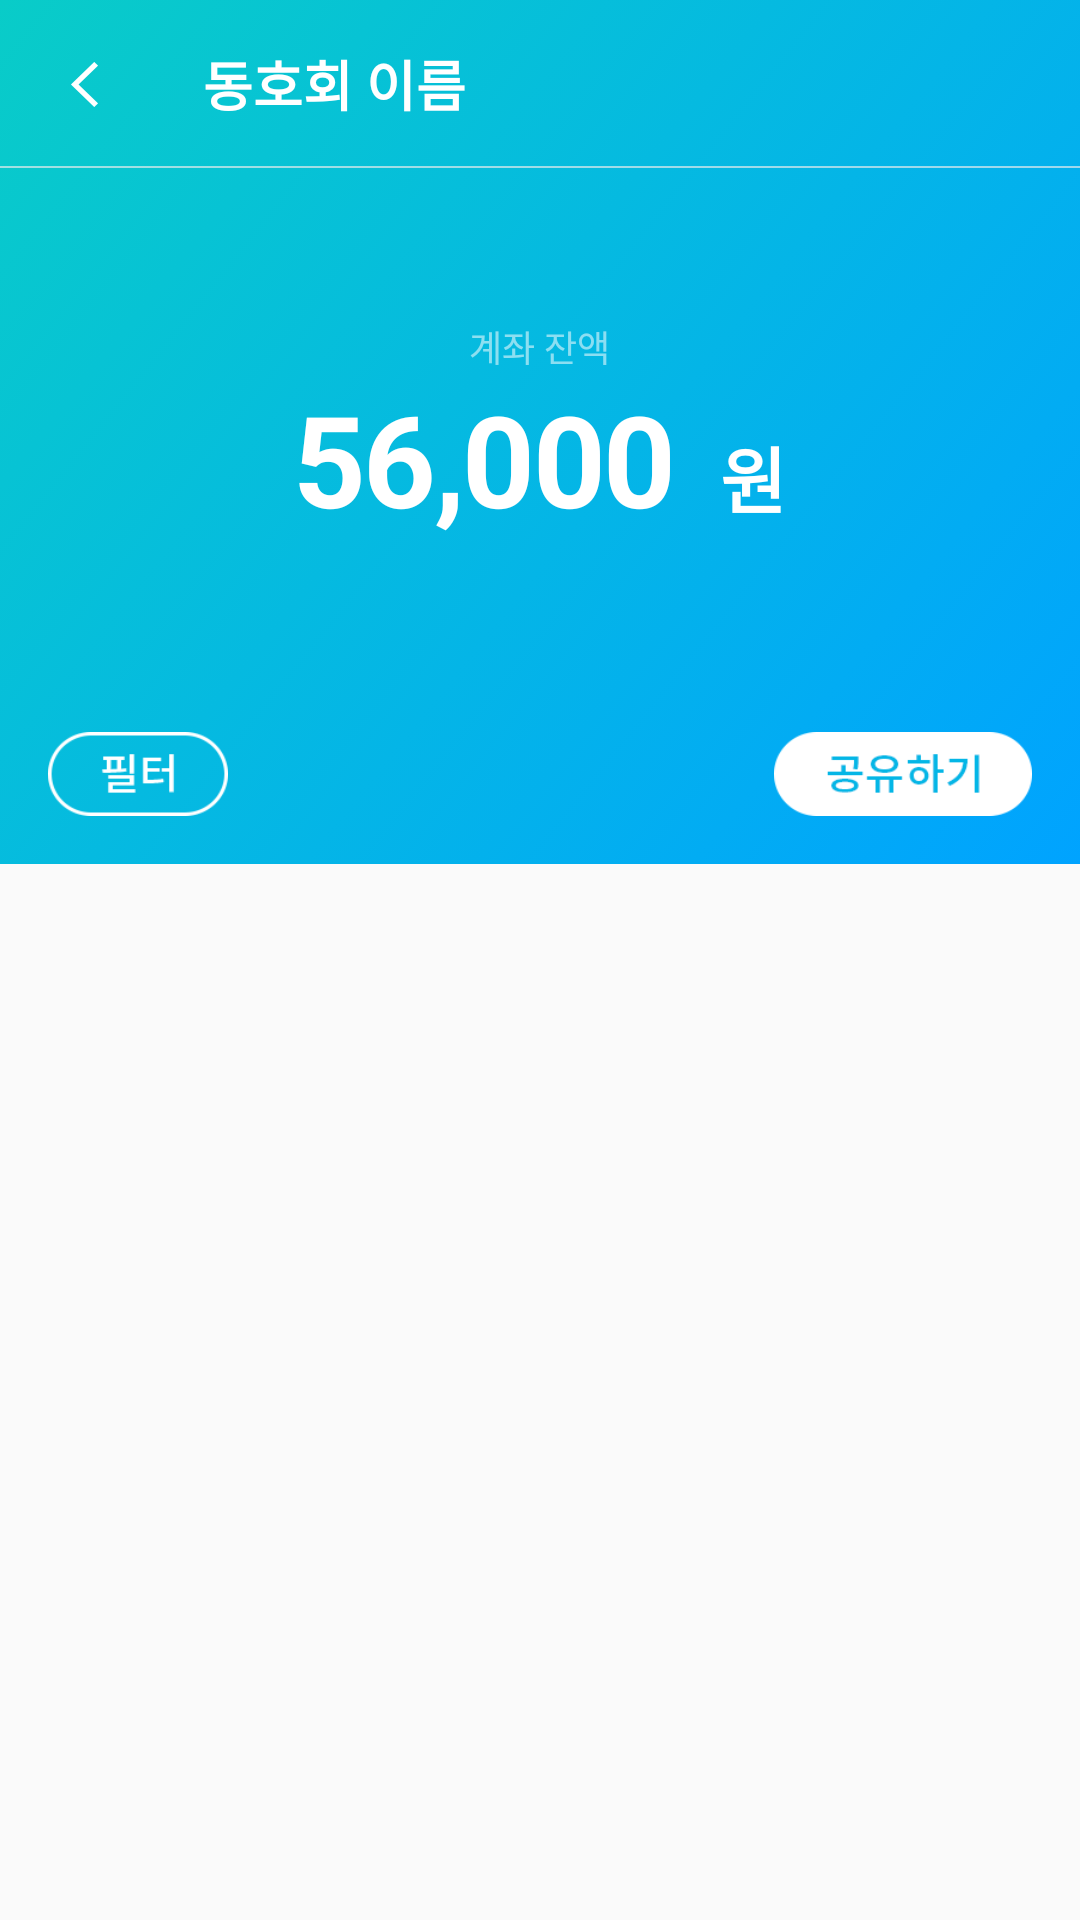

Icons on this 1080 x 1920 Android screen, each with the point to tap as [x,y]:
back: [84,84]
